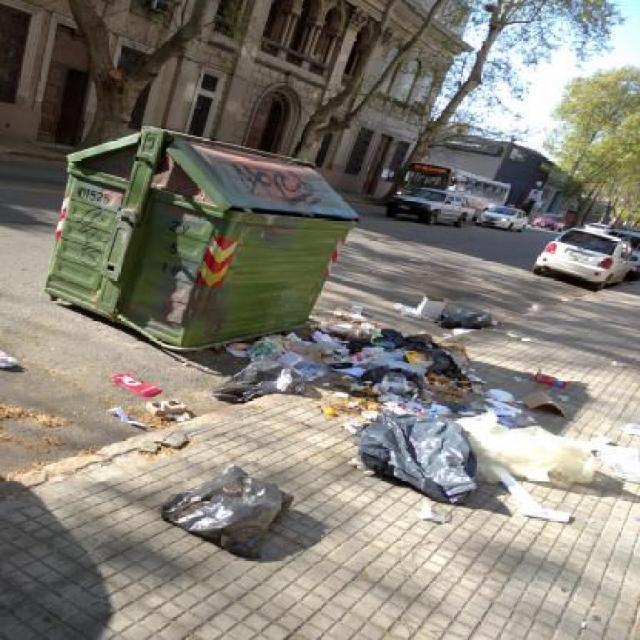garbage: (196, 285, 640, 591), (0, 343, 252, 579)
